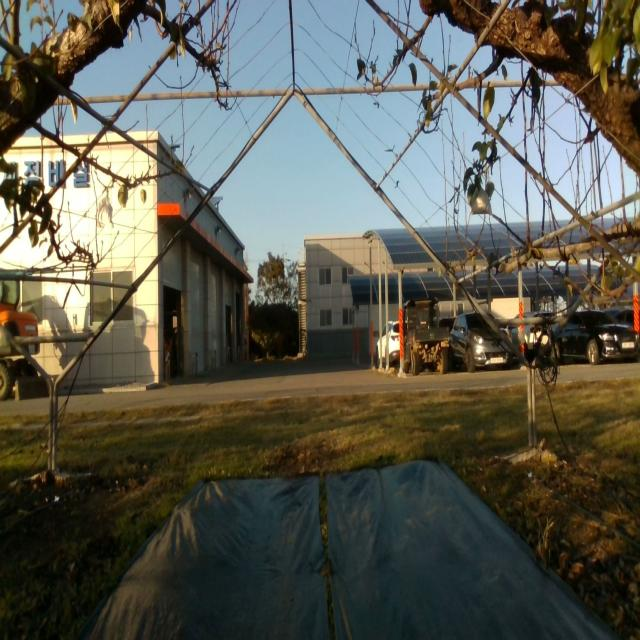pearbags: (468, 185, 493, 218), (96, 197, 114, 228)
